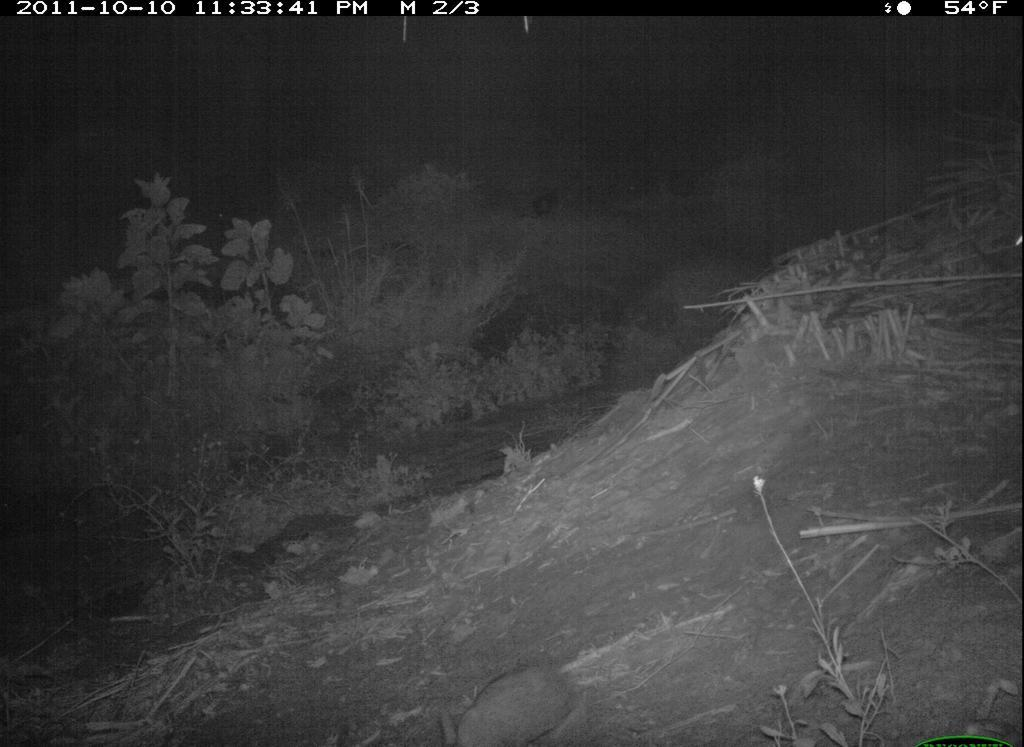rabbit: (437, 646, 605, 747)
